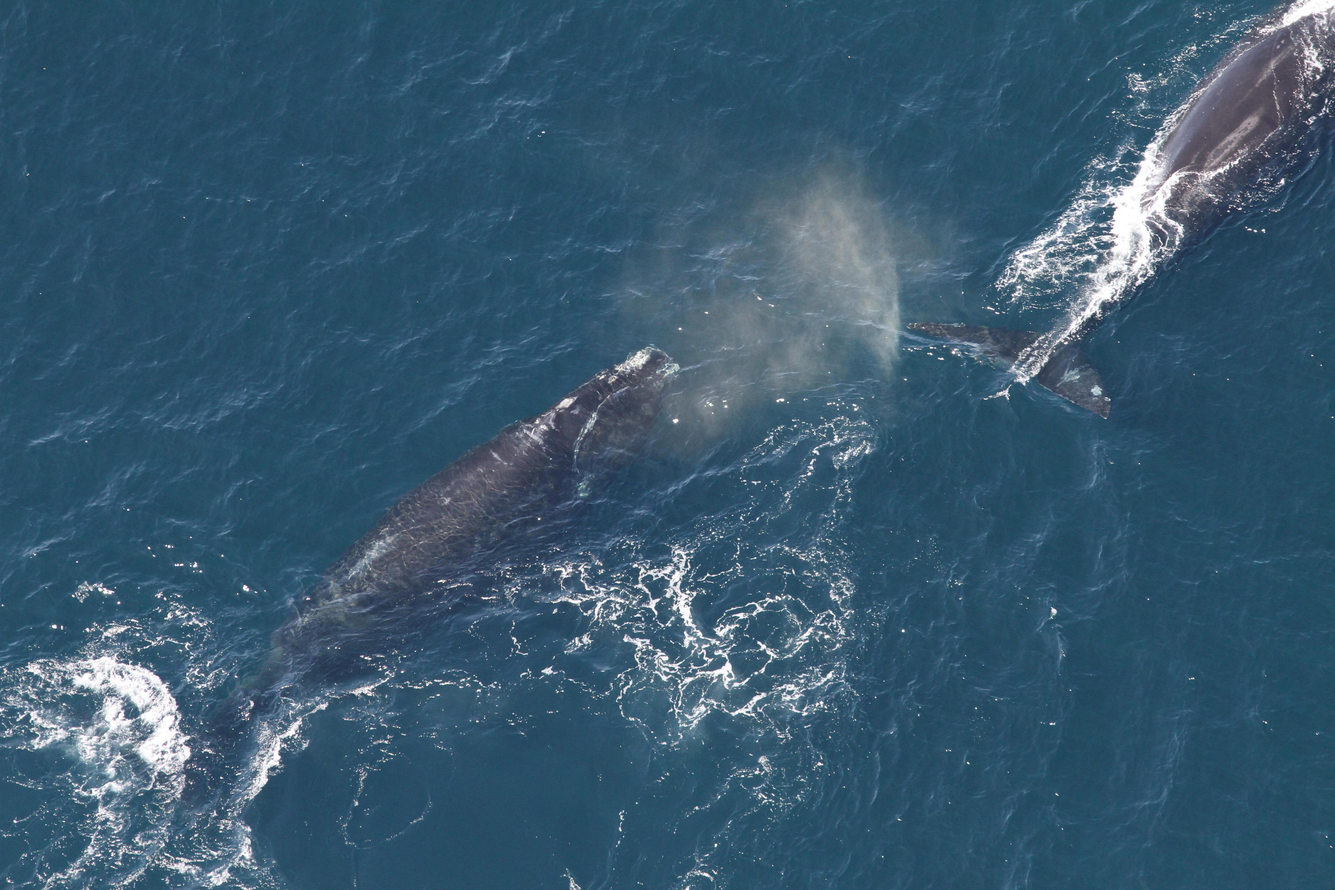whale: (93, 333, 703, 846), (852, 0, 1335, 430)
